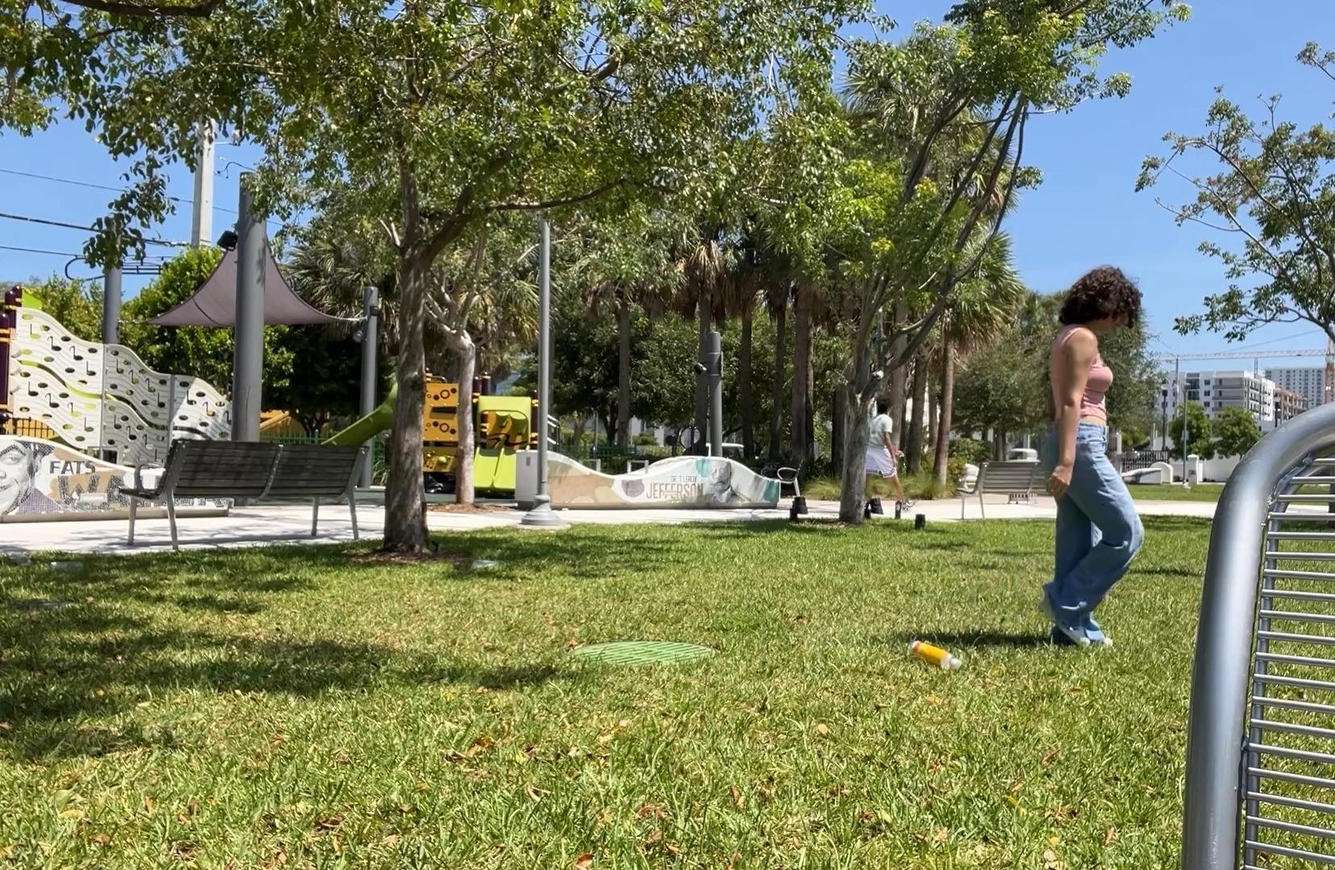Trash: (894, 618, 977, 690)
